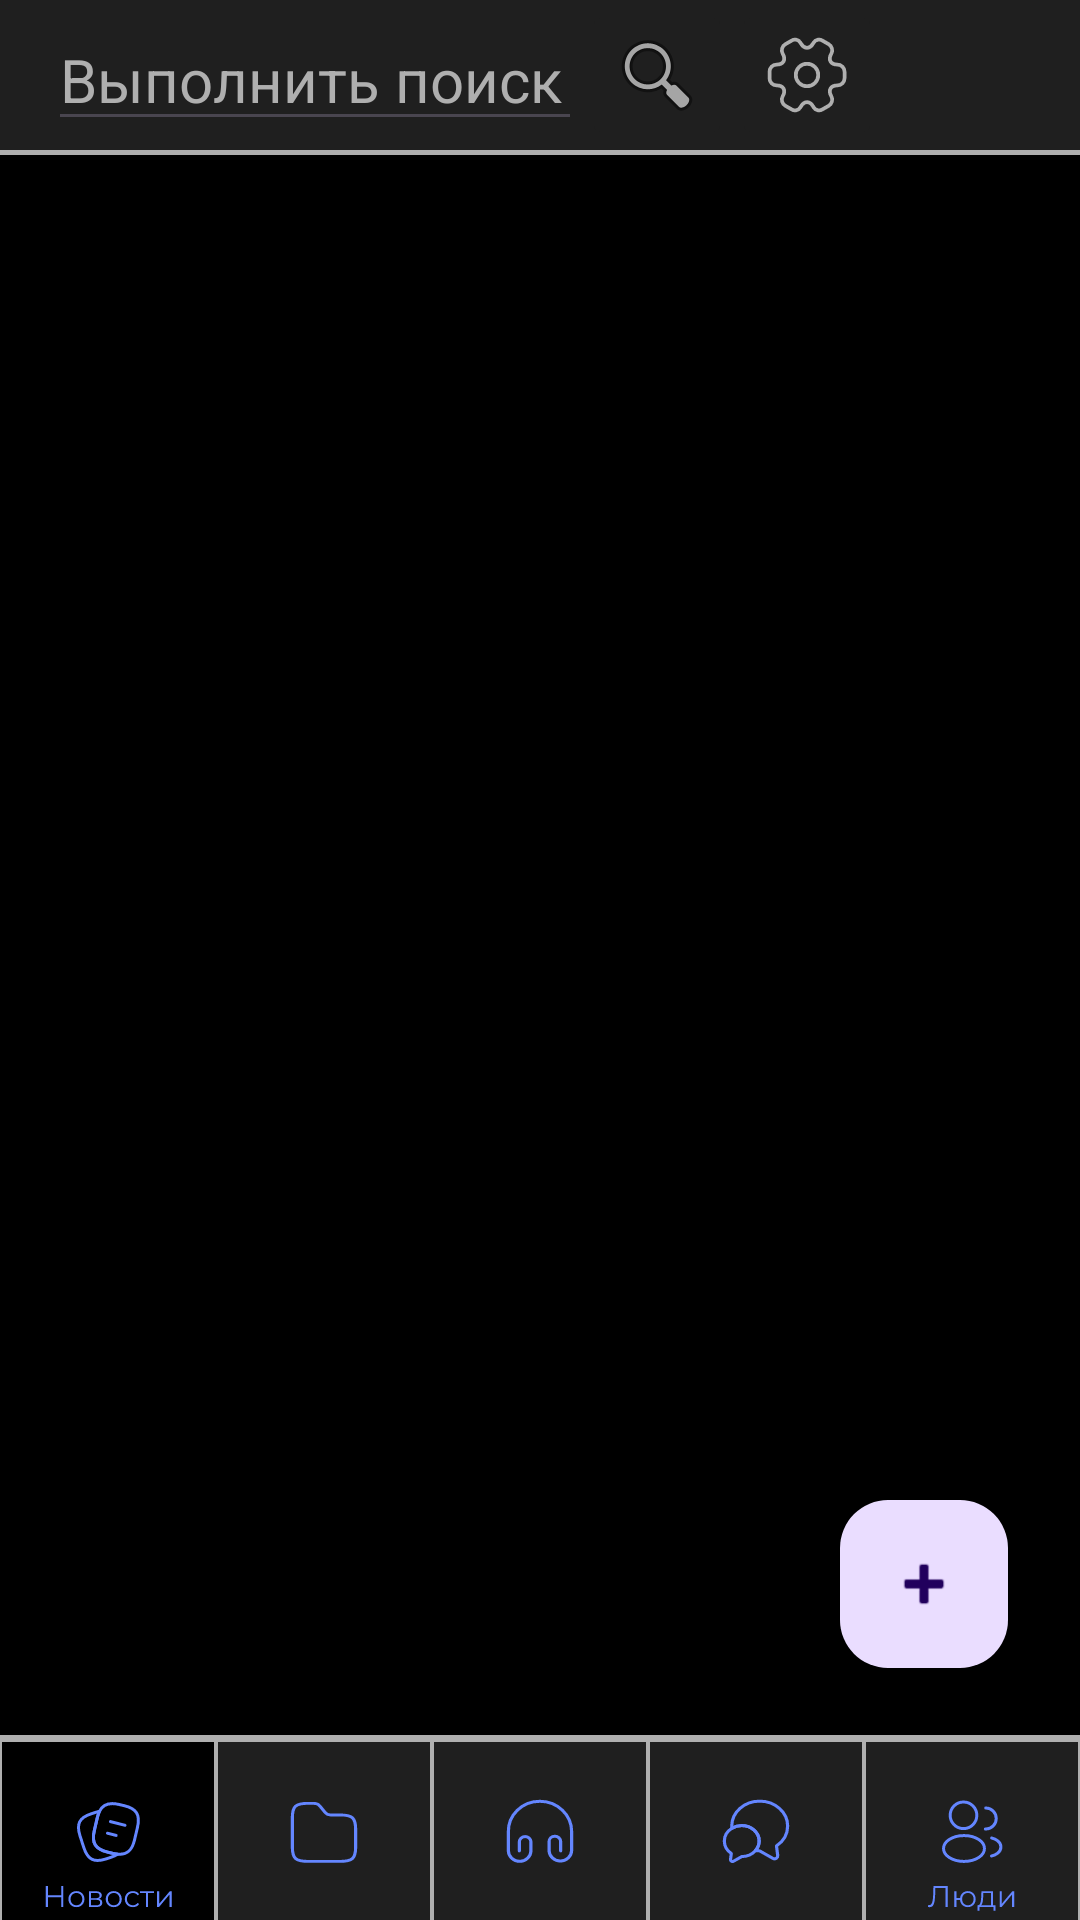

Locate icon controls on the screen. Image size 1080w x 1920h, boxes as (x1, y1, x2, y2).
add: (840, 1500, 1008, 1668)
search: (625, 43, 689, 108)
setting: (767, 37, 847, 113)
